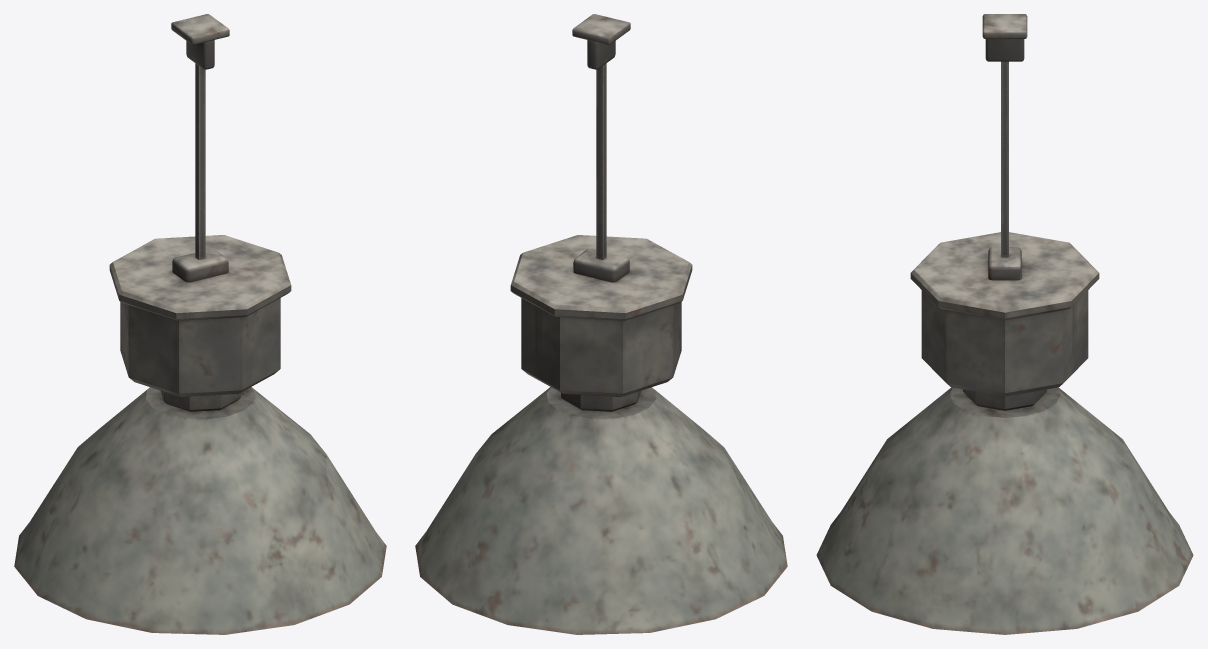
File: light_highbay.fbx
3 views of the same model, side by side, from view 1: azimuth 30°, elevation 25°; view 2: azimuth 150°, elevation 25°; view 3: azimuth 270°, elevation 25° (orthographic).
Parts seen in each view (by area): view 1: Body; view 2: Body; view 3: Body.
Part boxes in pixels (x1,y1,x2,y2): Body: (14, 14, 386, 634); Body: (415, 14, 787, 634); Body: (816, 14, 1193, 634).
Bounding box in the file's own units: 3.4 × 5.32 × 3.4.
Materials: 1 (1 with a texture image).
